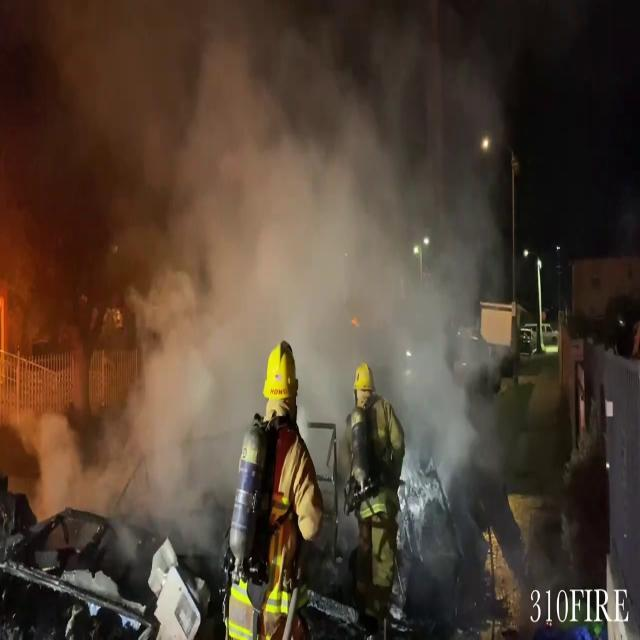Smoke: (4, 0, 514, 520)
